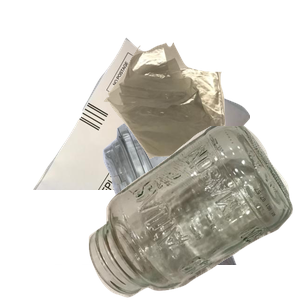glass: (86, 126, 300, 300)
paper: (31, 35, 271, 215)
plastic: (55, 120, 284, 300)
trash: (101, 40, 300, 192)
